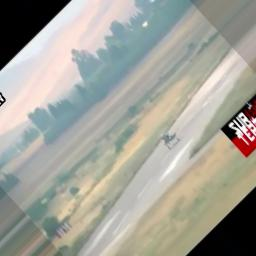Airplane: (157, 131, 180, 151)
